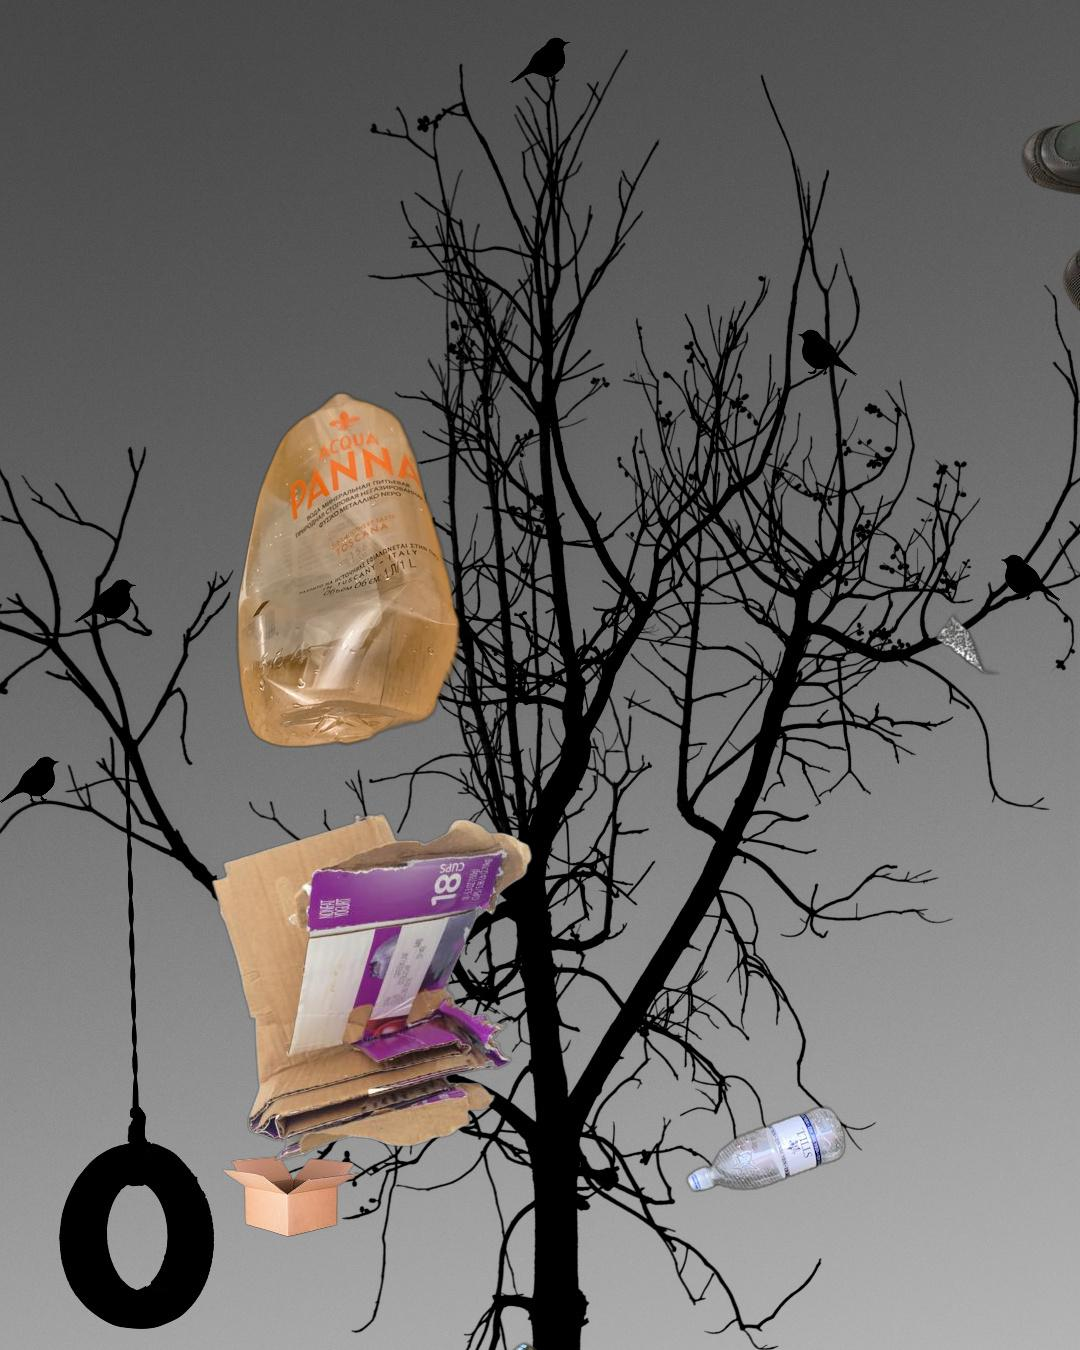glass: (290, 1338, 547, 1350)
paper: (932, 604, 1002, 677)
plastic-bottles: (233, 389, 465, 752), (648, 1101, 850, 1350)
shoes: (1019, 6, 1080, 328)
trashbox-cardboard: (207, 810, 536, 1162), (220, 1154, 361, 1239)
